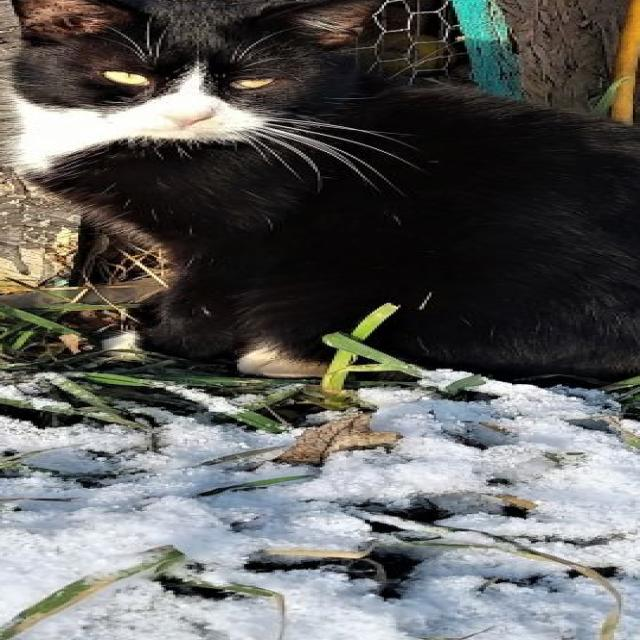Tuxedo: (0, 0, 640, 381)
